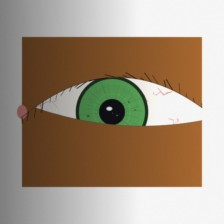pterygium_lesion: (23, 95, 66, 129)
